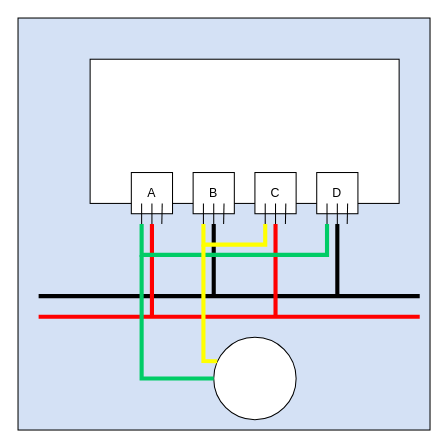
The diagram is 448 pixels wide and 448 high, and some of its shapes have lost their labels. Here are the shapes that lost their labels. From the top down, the box of each, then its label:
(89, 58, 399, 203): Sonoff 4chpro Motor H-bridge circuit diagram
(213, 336, 296, 420): 12V DC Motor
